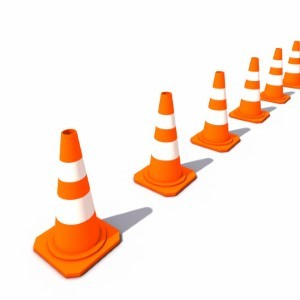traffic cone: (33, 129, 121, 278), (134, 92, 197, 199), (190, 70, 241, 155), (228, 57, 271, 124)
